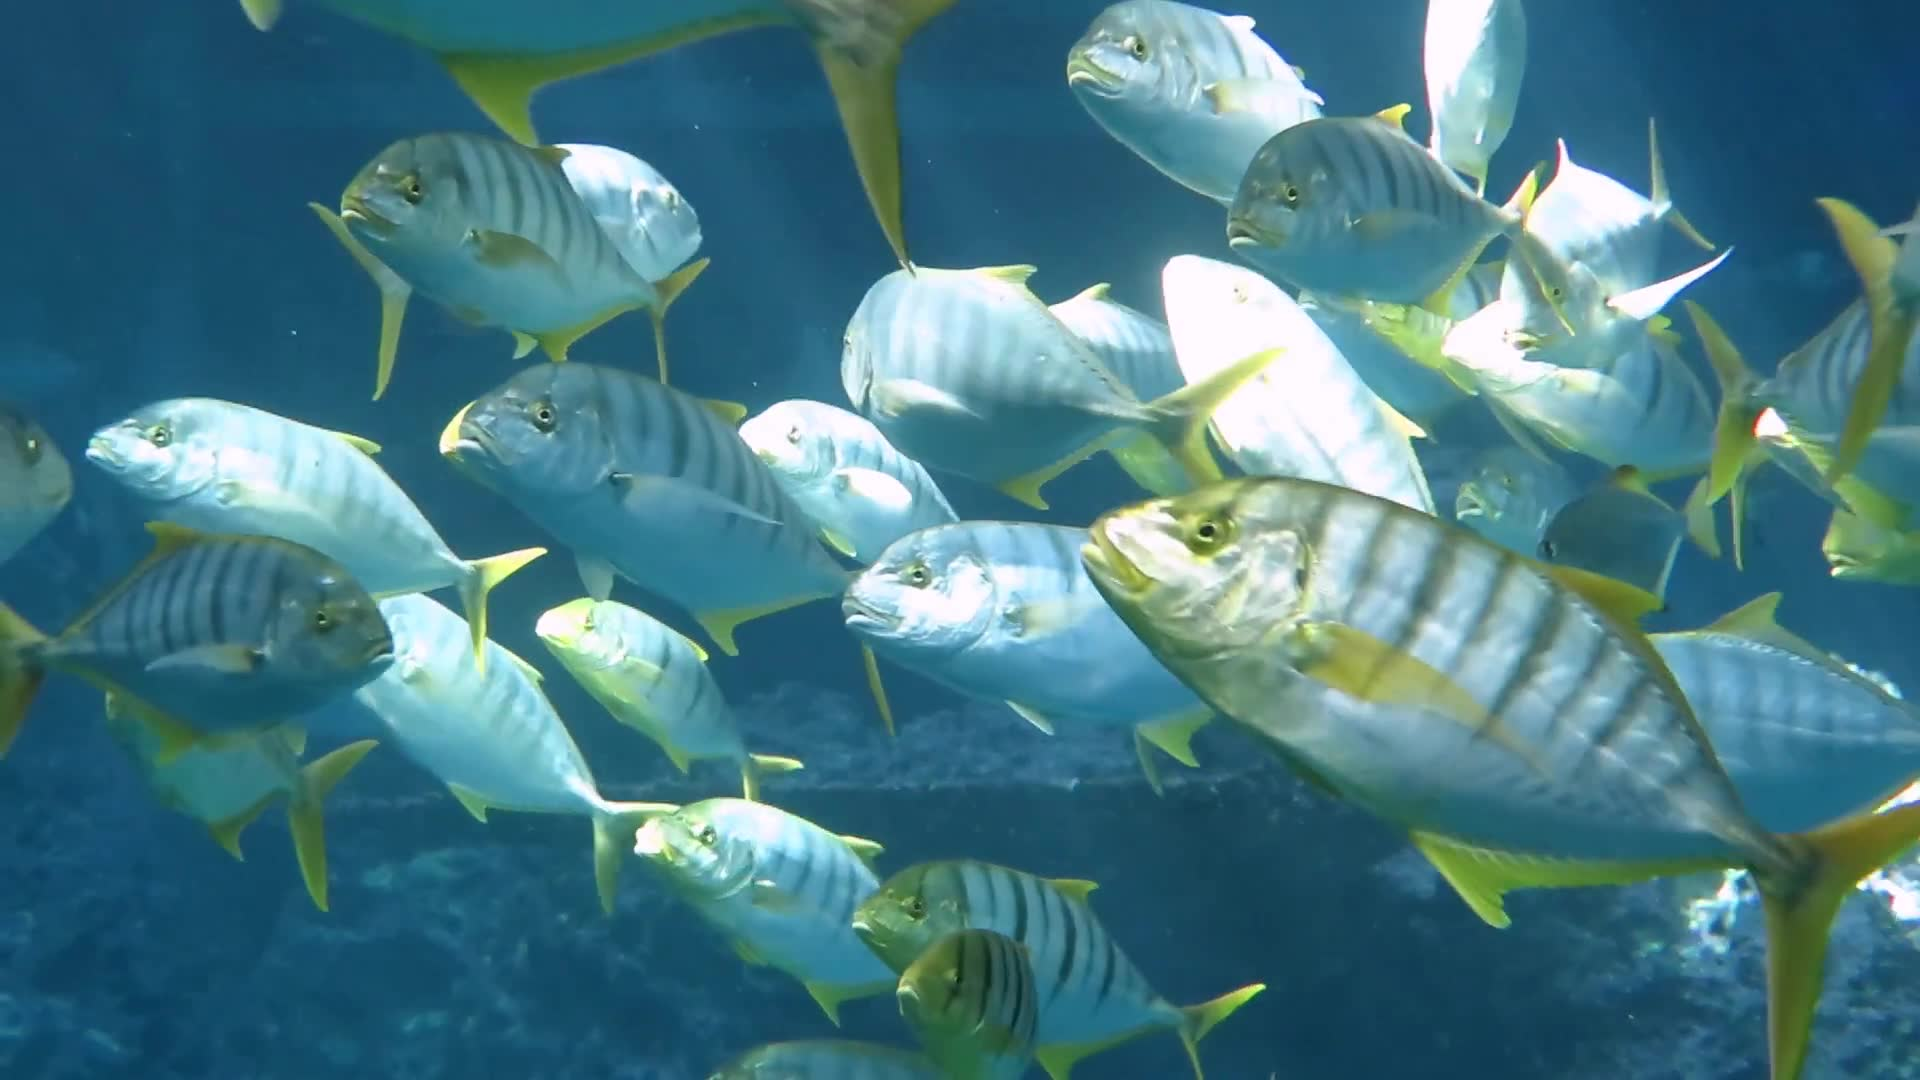Gnathanodon speciosus: (1087, 469, 1745, 903), (427, 357, 866, 621), (65, 371, 493, 617), (841, 516, 1207, 725), (359, 141, 694, 342), (32, 526, 397, 709), (862, 865, 1203, 1055), (1193, 123, 1548, 276), (1485, 150, 1702, 393), (624, 786, 866, 994), (1044, 4, 1329, 158), (738, 371, 951, 543), (891, 945, 1083, 1052)
